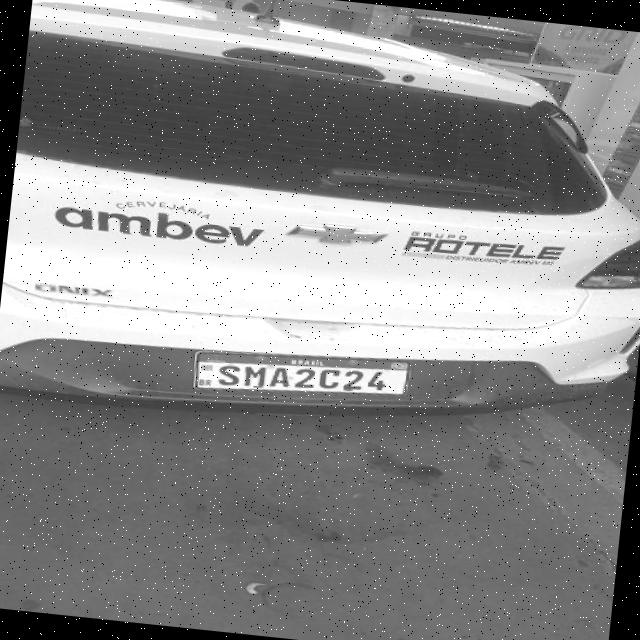placa_mercosul: (194, 352, 409, 395)
